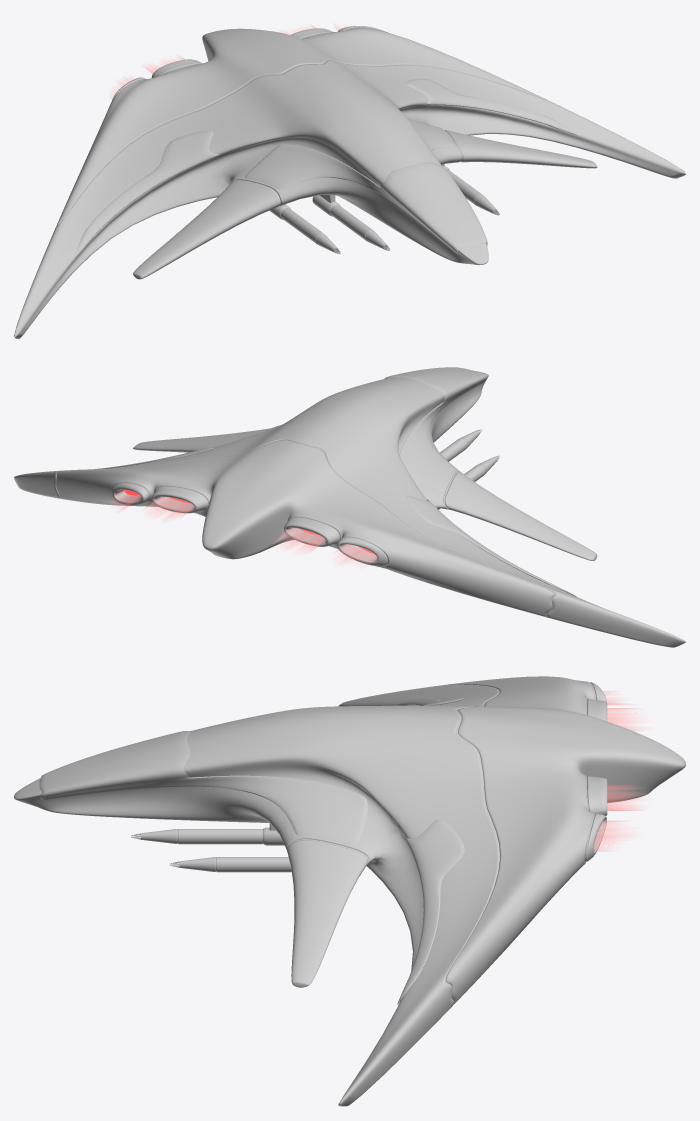
3 views of the same model, one above another, from view 1: azimuth 30°, elevation 25°; view 2: azimuth 150°, elevation 25°; view 3: azimuth 270°, elevation 25° (orthographic). The views are drawn at different scales.
Parts seen in each view (by area): view 1: Ship_Body, Armor, Guns; view 2: Ship_Body, Armor, Thruster Energy, Guns; view 3: Ship_Body, Armor, Guns, Thruster Energy.
Boxes of the visible parts, box(x1,y1,x2,y2) form: Ship_Body: box(14, 26, 685, 338); Armor: box(74, 78, 577, 257); Guns: box(269, 164, 499, 254); Ship_Body: box(14, 371, 685, 647); Armor: box(94, 367, 576, 596); Thruster Energy: box(113, 490, 377, 565); Guns: box(438, 429, 499, 509); Ship_Body: box(14, 676, 685, 1106); Armor: box(39, 697, 464, 1004); Guns: box(131, 823, 291, 872); Thruster Energy: box(594, 691, 645, 851).
Bounding box in the file's own units: 24.37 × 5.59 × 17.34.
